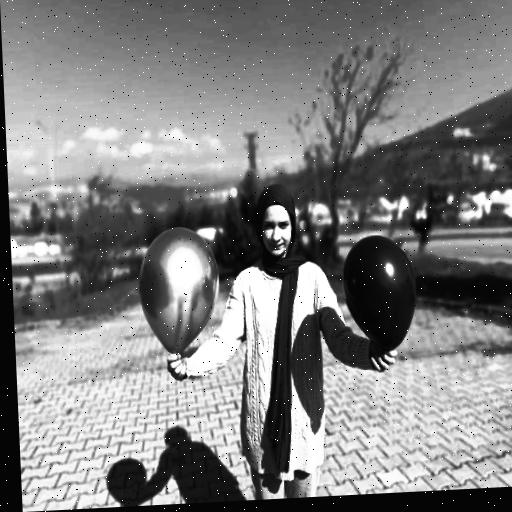balloon: (129, 225, 224, 354), (346, 234, 418, 354)
